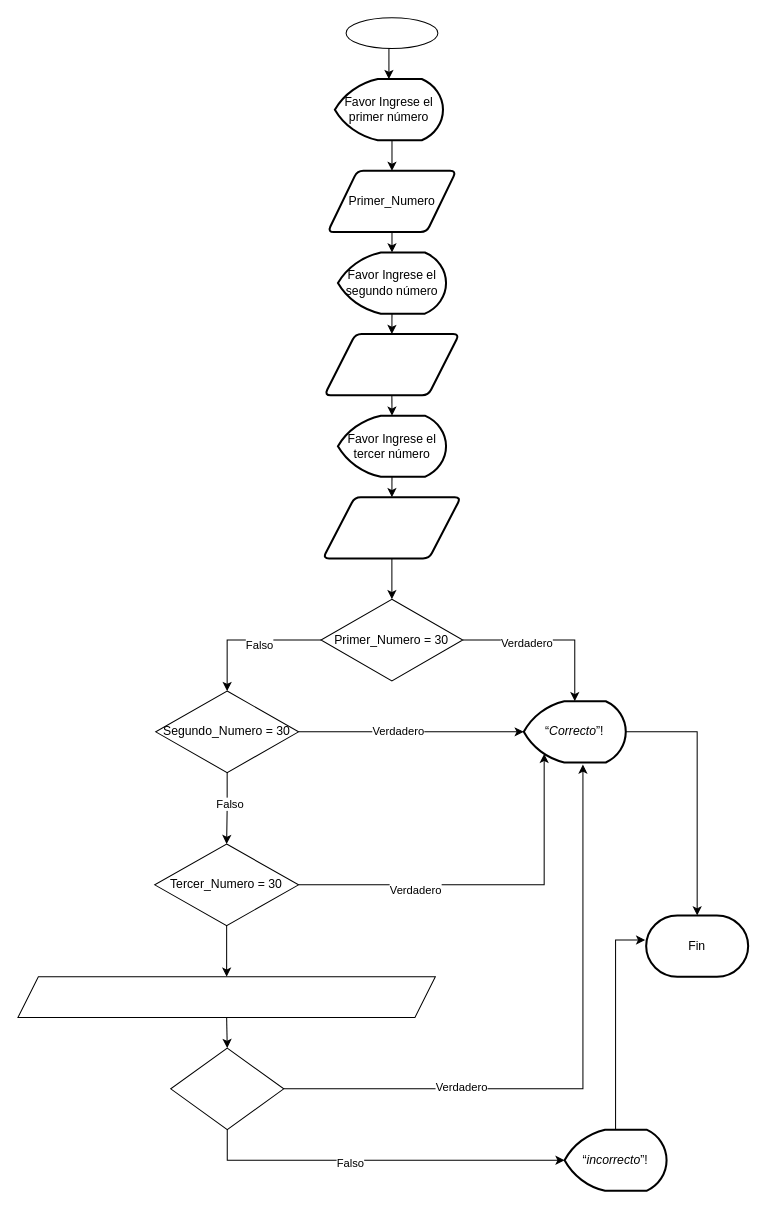
Some shapes in this 767 by 1210 pixel diagram are drawn without their labels. Each missing label, with the box of its shape:
Inicio: (345, 17, 438, 48)
Segundo_Numero: (323, 333, 460, 396)
Suma_Total = 30: (170, 1047, 284, 1130)
Suma_Total = Pimer_Numero + Segundo_Numero + Tercer_Numero: (17, 976, 435, 1017)
Tercer_Numero: (321, 496, 461, 559)
